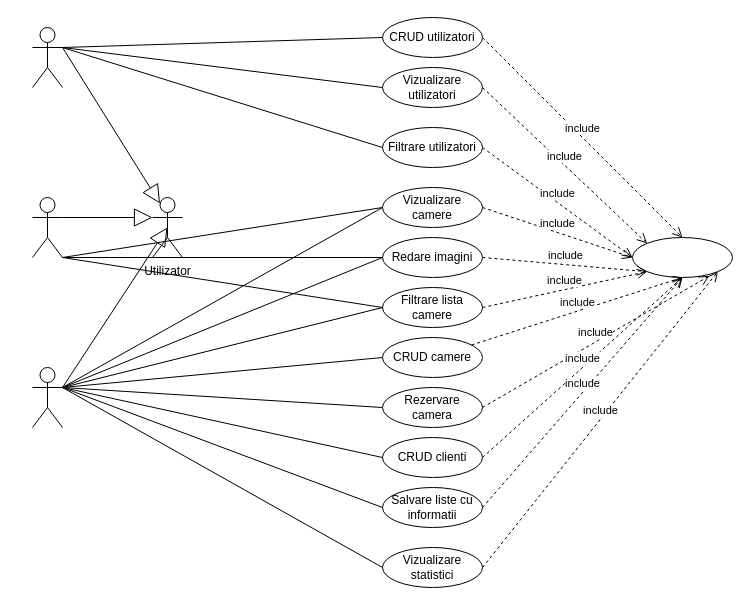
This 750x605 diagram has some shape labels left out. Here are the shapes that lost their labels. From the top down, the centre of each, then its label:
At (47,57): "Adinistrator".
At (47,227): "Client".
At (682,257): "Autentificare".
At (47,397): "Angajat".
